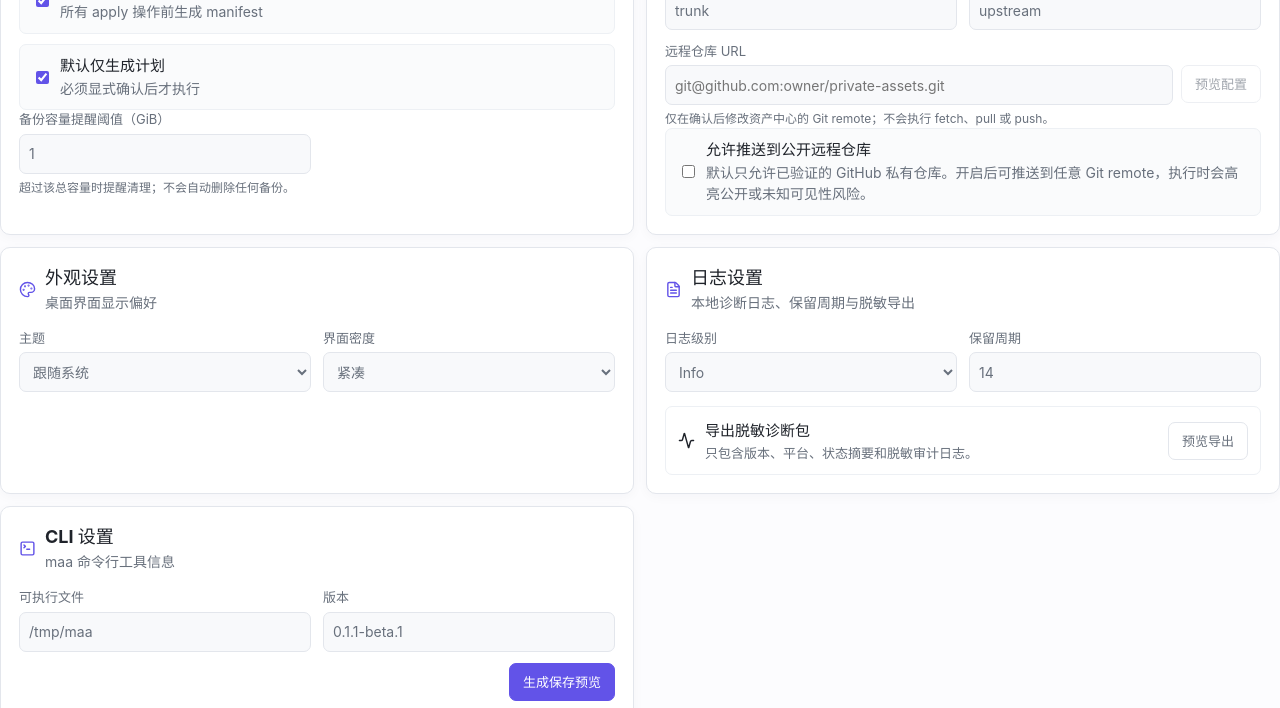
it: read-only UI integration › displays loaded settings and saves edited values through preview and explicit apply
(page scrolled)
Expected: the field showing "trunk" is shown, [665,0,957,30]
Expected: the field showing "upstream" is shown, [969,0,1261,30]
Click the button "生成保存预览" at coordinates (562, 682), box [509,663,615,701]
(page scrolled)
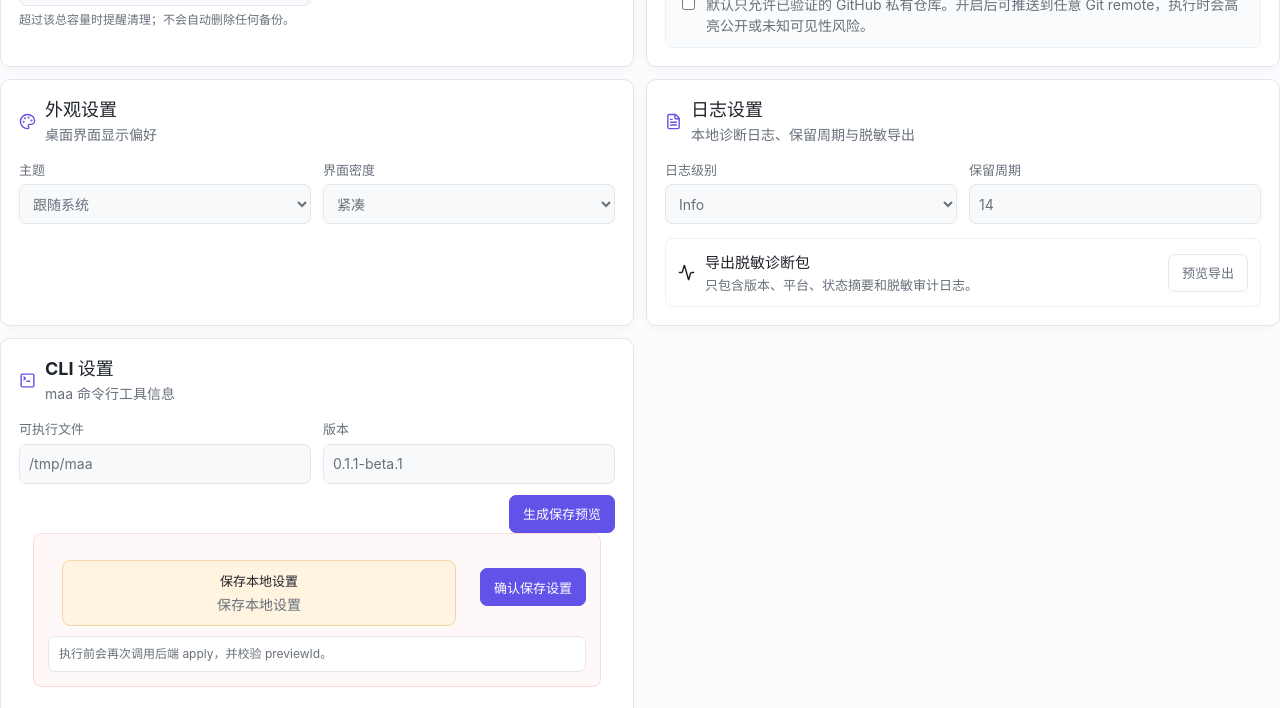
Click the button "确认保存设置" at coordinates (533, 587), box [480,568,586,606]
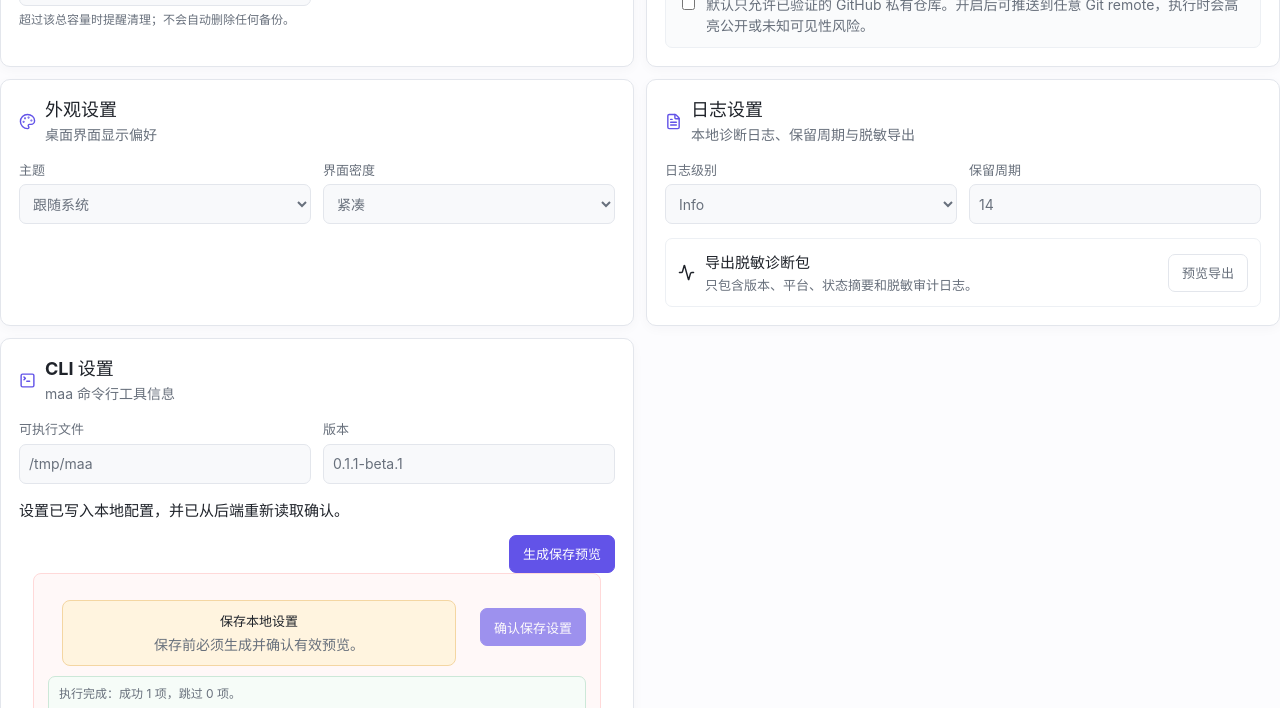
Expected: the text "设置已写入本地配置，并已从后端重新读取确认。" is shown, [19,501,349,520]
